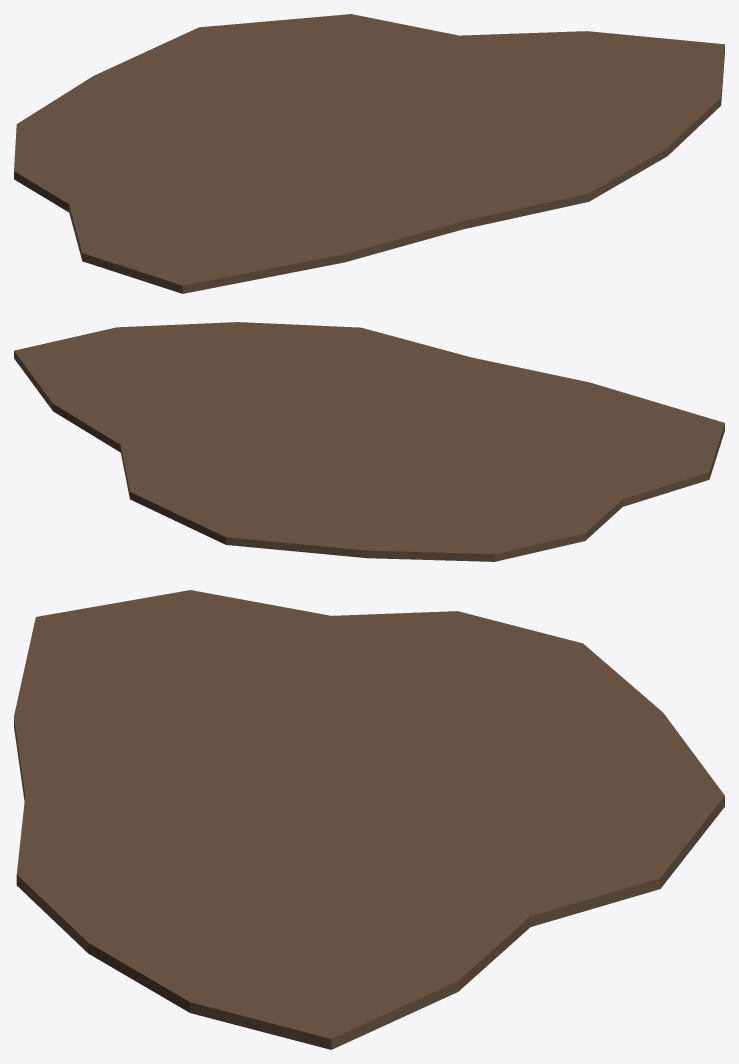
File: mud_puddle_lod0.glb
3 views of the same model, one above another, from view 1: azimuth 30°, elevation 25°; view 2: azimuth 150°, elevation 25°; view 3: azimuth 270°, elevation 25° (orthographic). The views are drawn at different scales.
Parts seen in each view (by area): view 1: mud_puddle; view 2: mud_puddle; view 3: mud_puddle.
Boxes of the visible parts, x1,y1,x2,y2 form: mud_puddle: [14, 14, 724, 293]; mud_puddle: [14, 322, 724, 561]; mud_puddle: [14, 590, 724, 1049].
Bounding box in the file's own units: 1.76 × 0.02 × 1.18.
